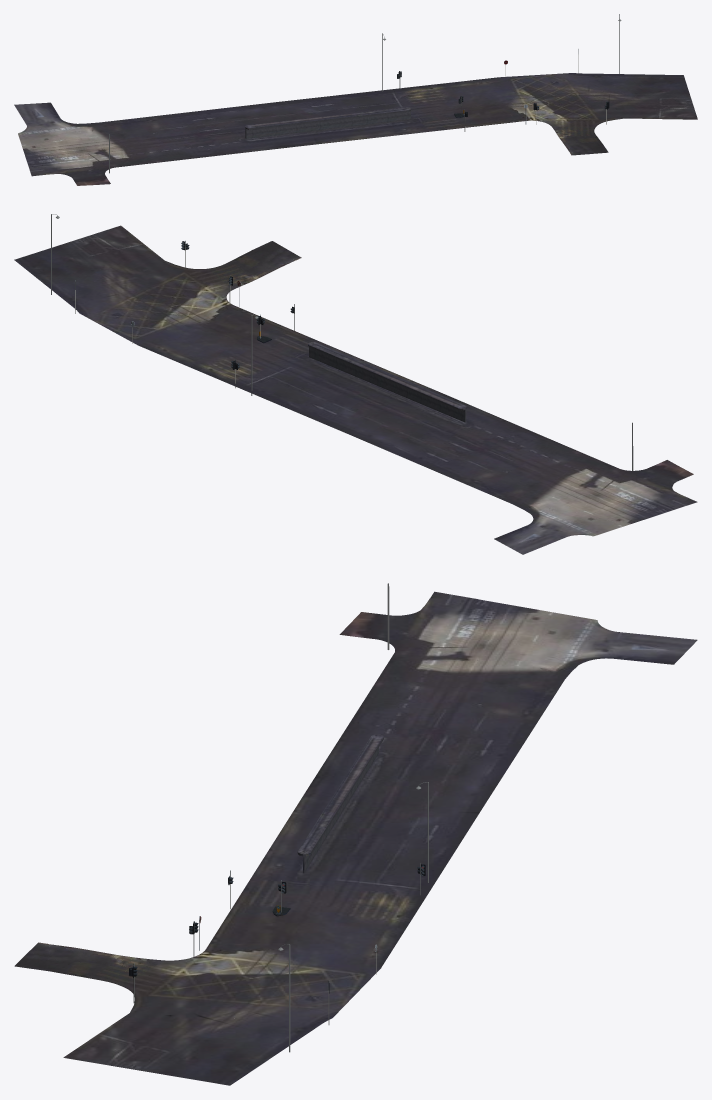
Rendered from man-wa-lane.glb.
3 views of the same model, one above another, from view 1: azimuth 30°, elevation 25°; view 2: azimuth 150°, elevation 25°; view 3: azimuth 270°, elevation 25° (orthographic). The views are drawn at different scales.
Parts seen in each view (by area): view 1: man-wa-lane; view 2: man-wa-lane; view 3: man-wa-lane.
Part boxes in pixels (x1,y1,x2,y2): man-wa-lane: [14, 14, 697, 185]; man-wa-lane: [14, 214, 697, 554]; man-wa-lane: [14, 583, 697, 1085].
Size of the model in its own units: 111 by 11.41 by 64.81.
7 materials, 7 textured.
